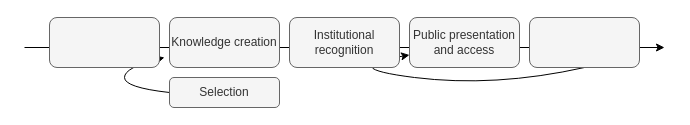
Image size: 690x125. Some labels were removed from this diagram. The shapes that lost their labels are listed below. From the top down, each one's centre as x and y in pixels, then its label:
the point at 104,42: Identification
the point at 584,42: Conservation and transmission
